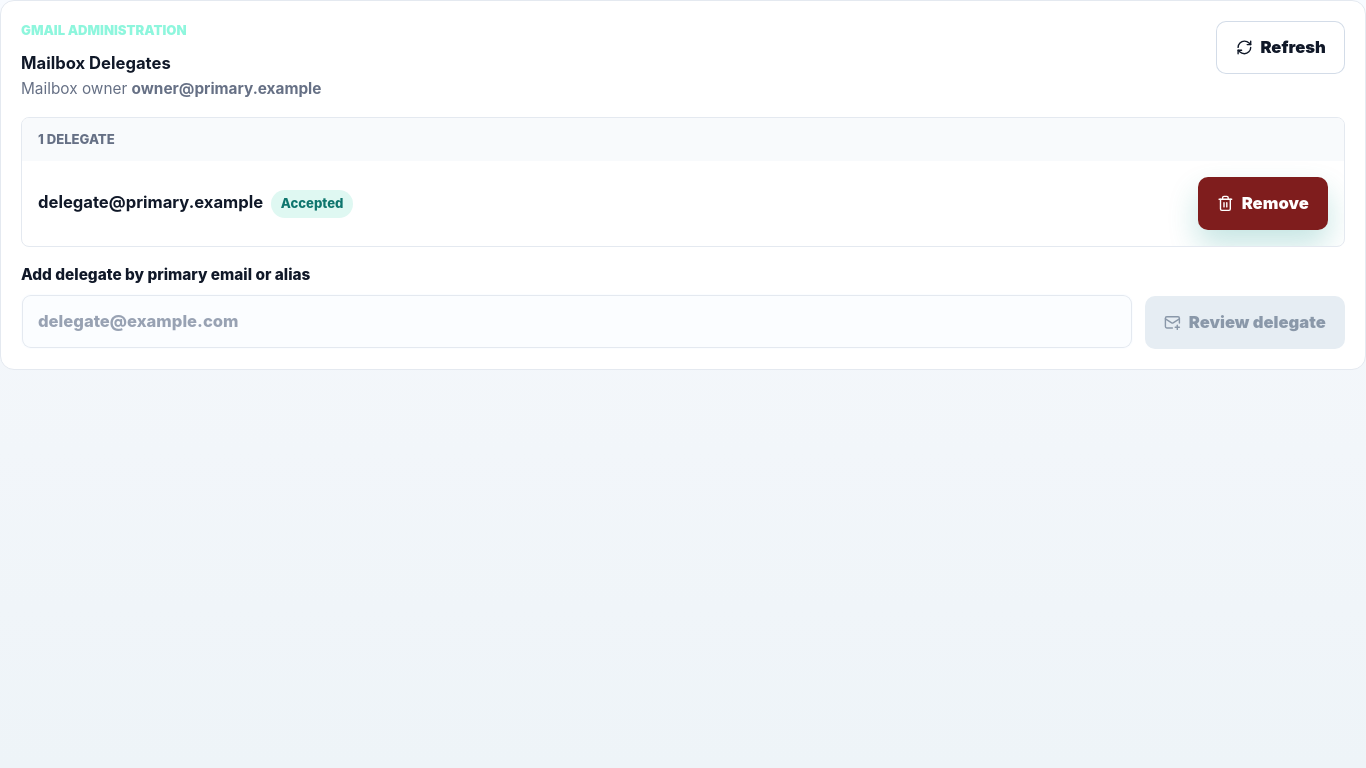
Test: MailboxDelegates › validates an alias, previews the canonical identity, confirms, and refreshes
This screenshot has width=1366, height=768.
expect the text "delegate@primary.example" is shown: met, box x1=38 y1=190 x2=263 y2=218
In the field labelled "Add delegate by primary email or alias": [577, 322] box x1=21 y1=294 x2=1133 y2=349, type "Alias@Primary.Example"
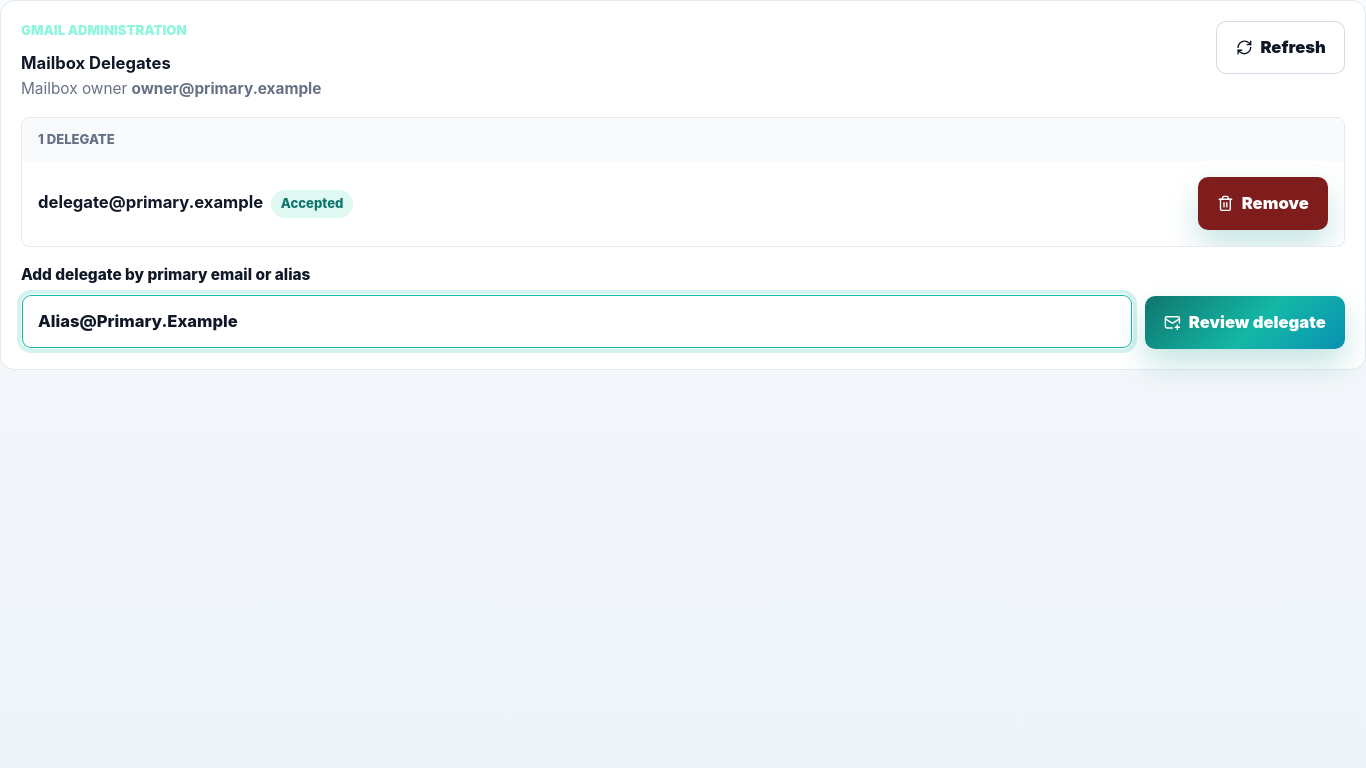
Click the button "Review delegate": [1245, 323] box x1=1145 y1=296 x2=1345 y2=349
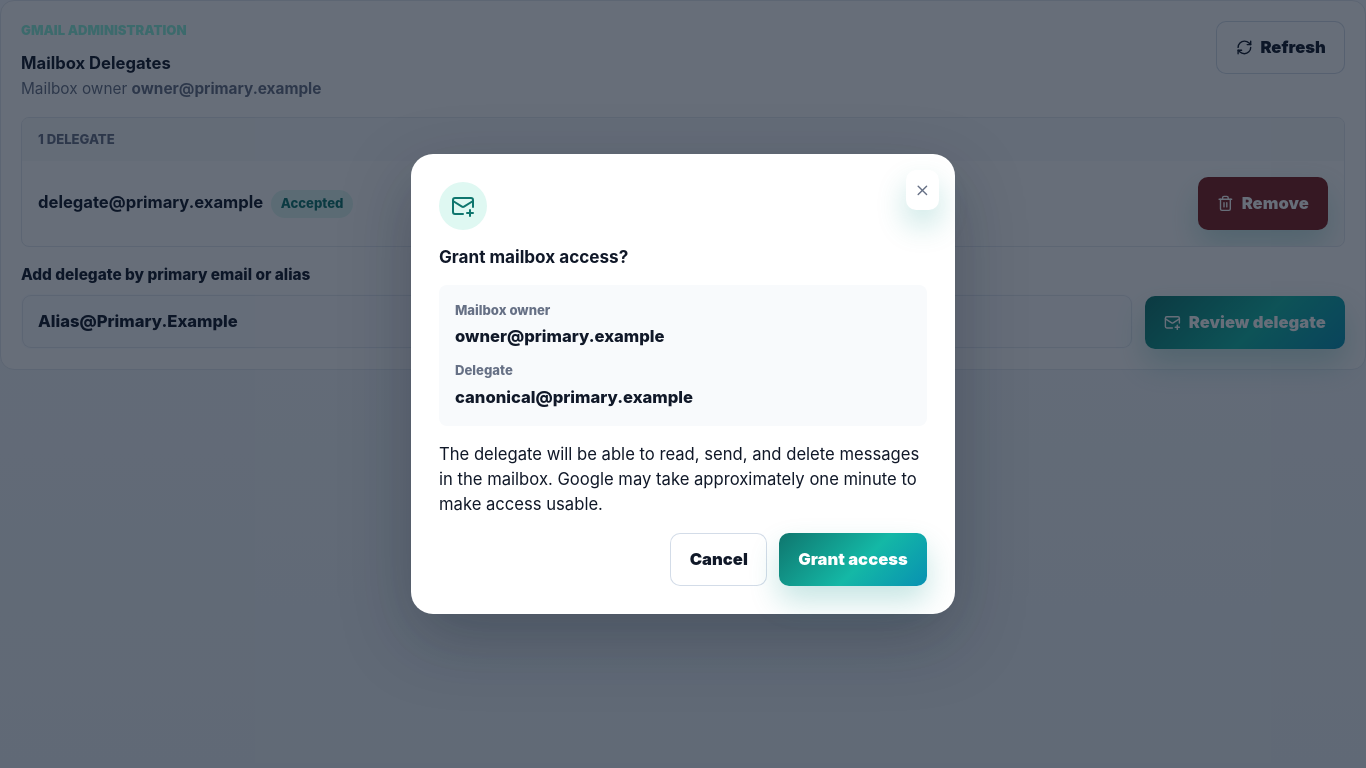
expect the dialog "Grant mailbox access?" shows "owner@primary.example": met, box x1=455 y1=326 x2=664 y2=346
expect the dialog "Grant mailbox access?" shows "canonical@primary.example": met, box x1=455 y1=387 x2=693 y2=407
expect the dialog "Grant mailbox access?" shows "read, send, and delete messages": met, box x1=439 y1=444 x2=919 y2=514
Click the button "Grant access": [853, 559] box x1=779 y1=533 x2=927 y2=586
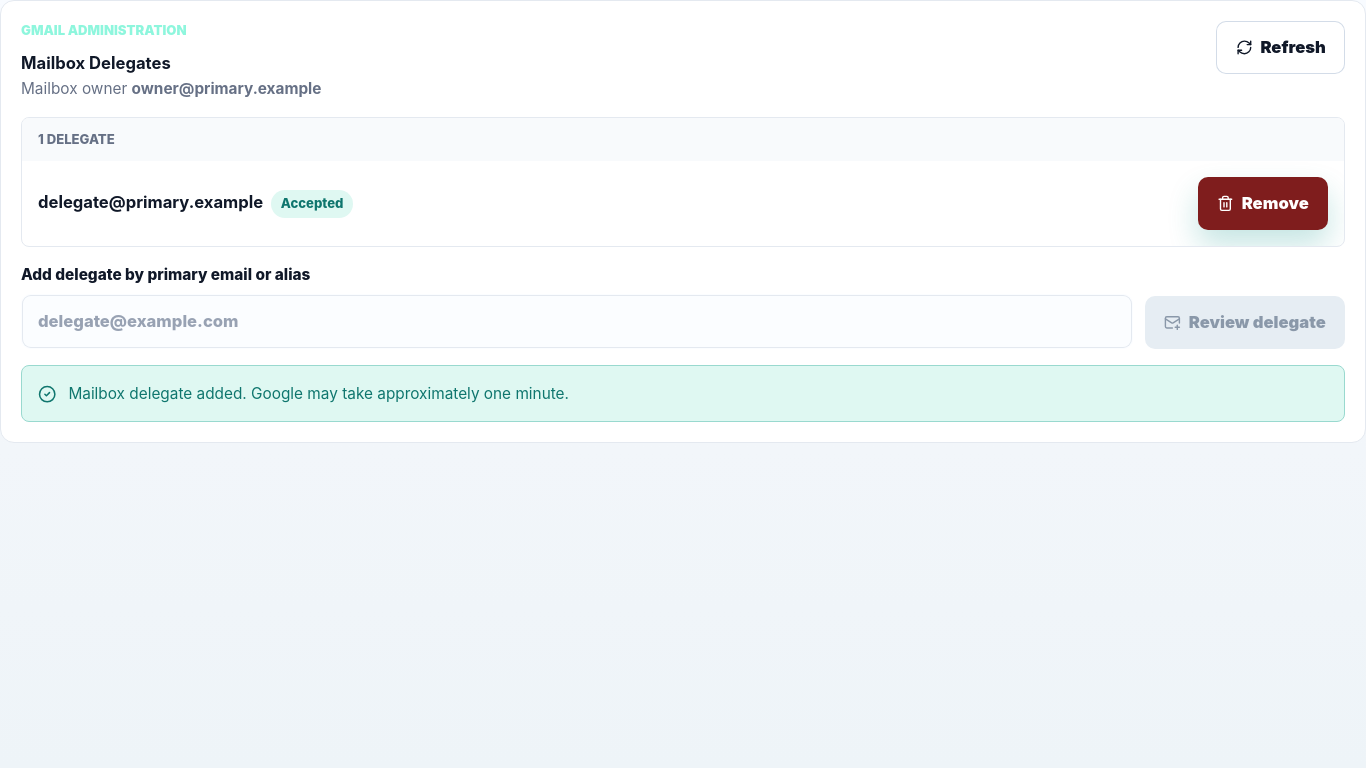
expect the text "Mailbox delegate added" is shown: met, box x1=68 y1=384 x2=569 y2=403
expect the dialog is gone: met
